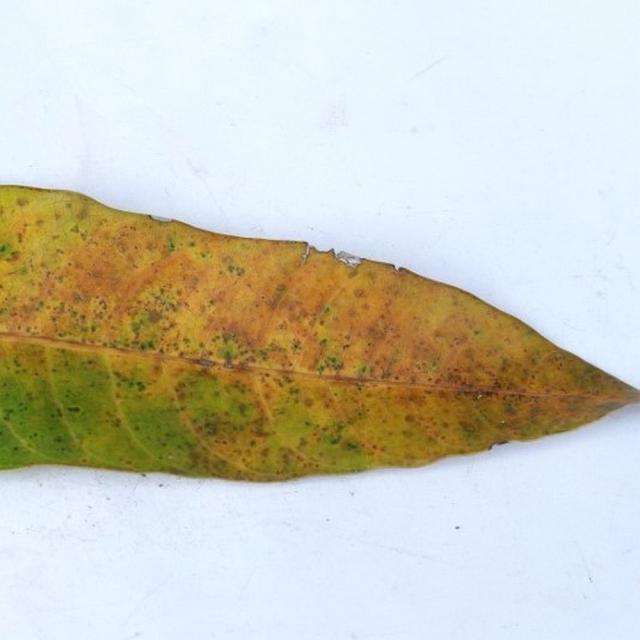Mango: (0, 188, 637, 481)
Powdery_Mildew: (173, 378, 275, 463), (30, 289, 115, 340), (124, 284, 193, 344), (356, 320, 396, 357), (213, 336, 247, 365), (129, 314, 162, 341), (322, 423, 350, 445), (327, 352, 349, 379), (315, 354, 344, 374), (115, 375, 146, 391), (72, 210, 91, 236), (269, 283, 289, 307), (5, 262, 30, 278), (0, 242, 18, 259), (146, 308, 164, 323), (114, 238, 130, 254), (202, 421, 219, 436), (42, 302, 61, 315), (225, 263, 243, 276), (503, 401, 519, 415), (499, 357, 512, 372), (95, 298, 108, 313), (72, 291, 86, 304), (346, 267, 361, 279), (290, 337, 302, 351), (2, 408, 15, 419), (16, 197, 29, 207), (354, 288, 367, 298), (69, 223, 80, 234), (304, 397, 315, 408), (66, 405, 80, 413), (167, 239, 176, 251), (371, 443, 383, 452), (359, 365, 369, 375), (321, 306, 331, 316), (319, 337, 328, 346), (187, 239, 196, 247), (54, 435, 64, 442), (473, 329, 481, 335), (140, 472, 146, 477)
